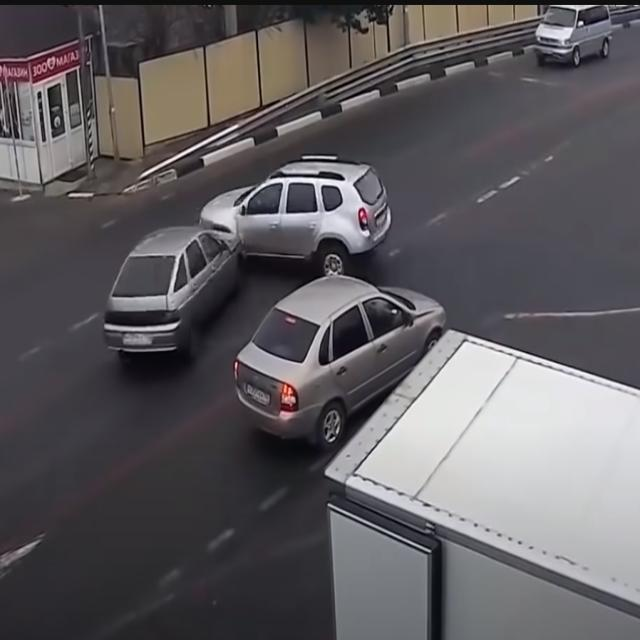accident: (99, 158, 391, 358)
non-accident: (232, 272, 640, 640)
